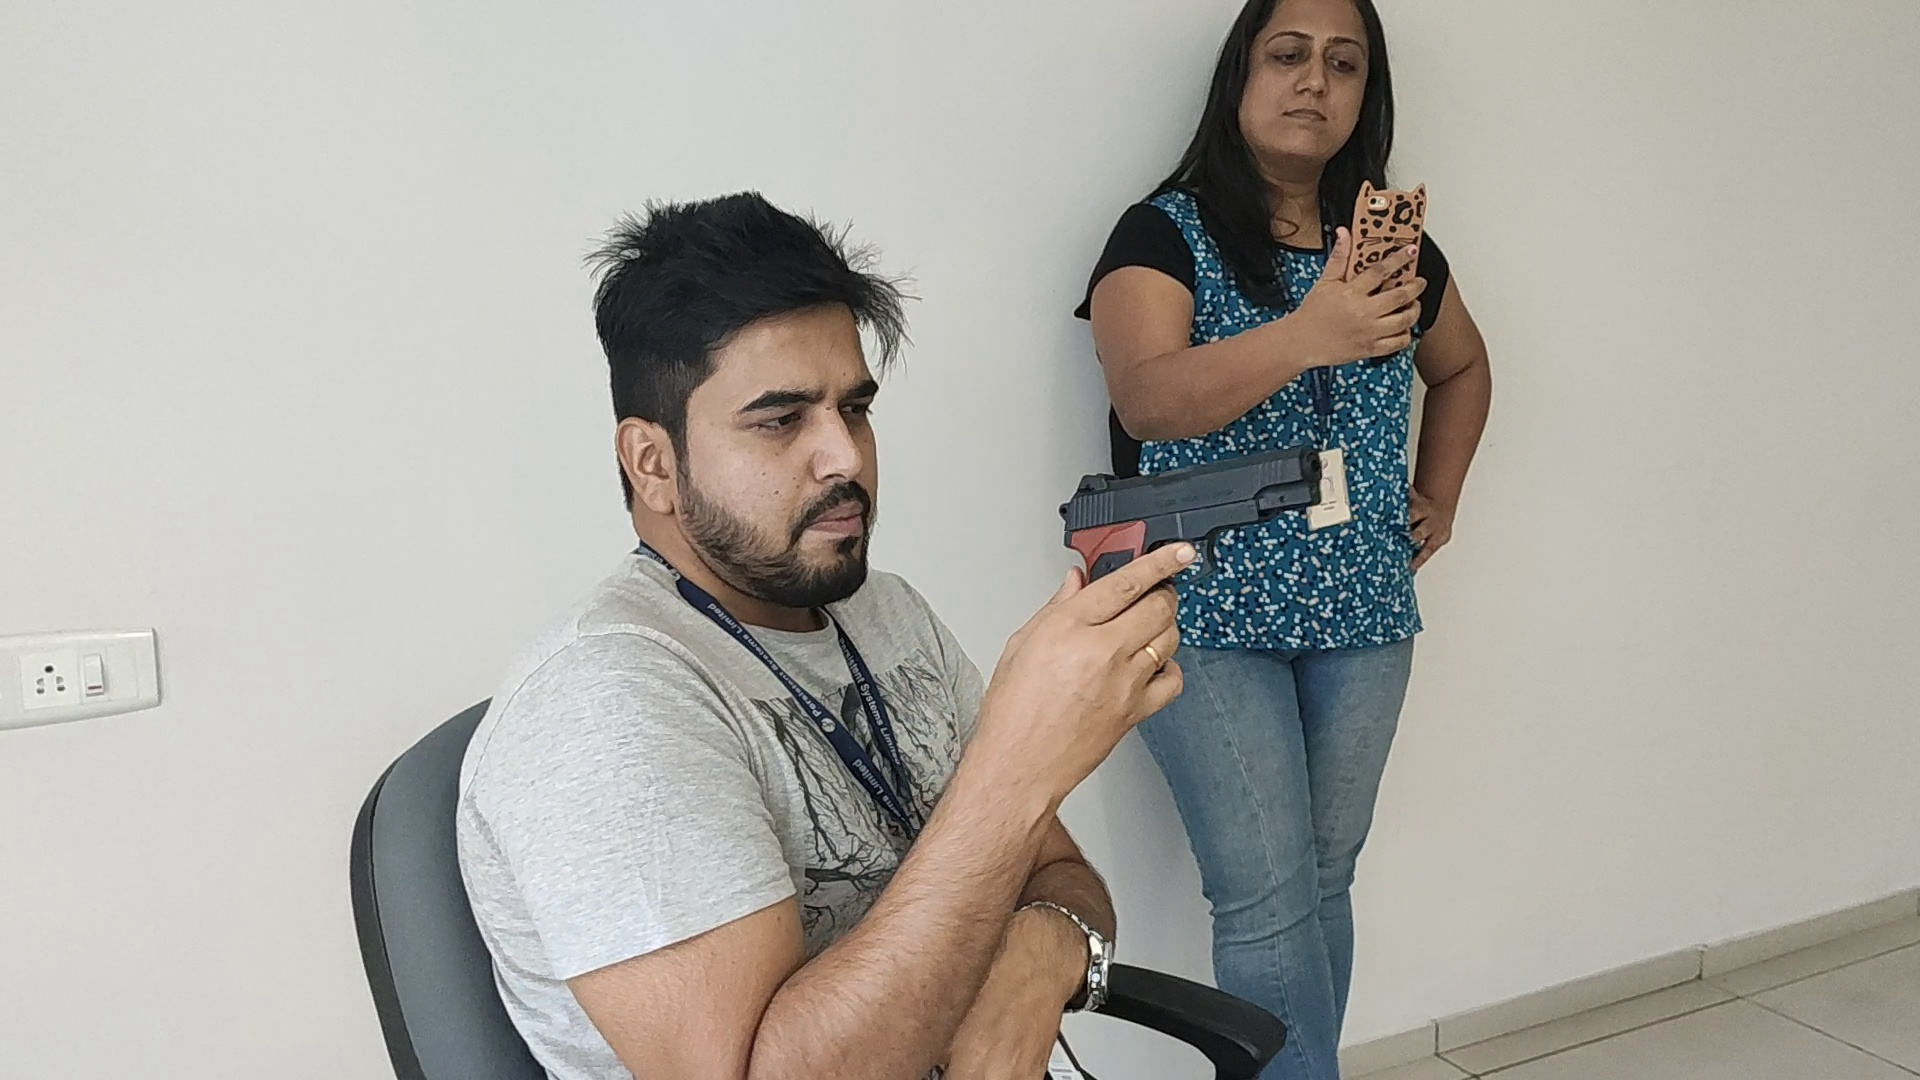gun: (1058, 439, 1324, 541)
